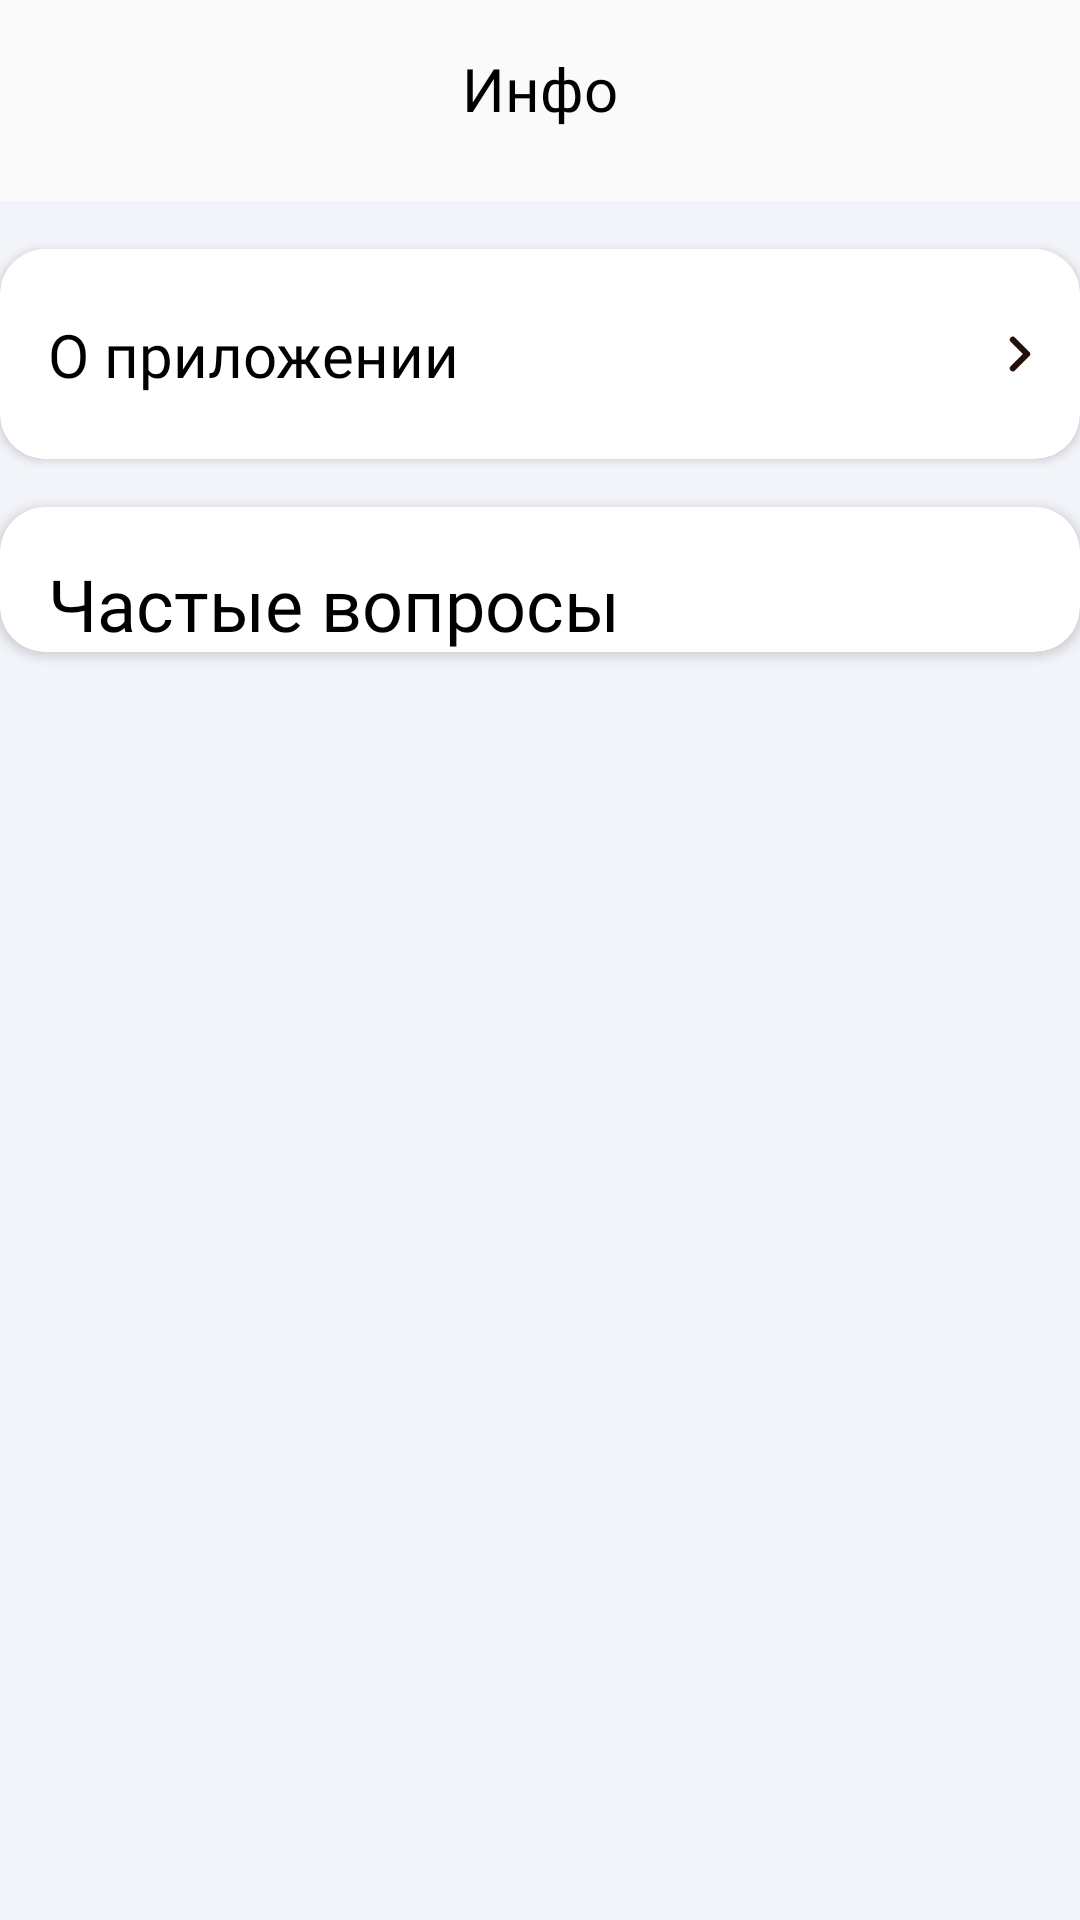

Icons on this 1080 × 1920 Android screen, each with the point to tap as [x,y]:
chevron right: [1020,354]
